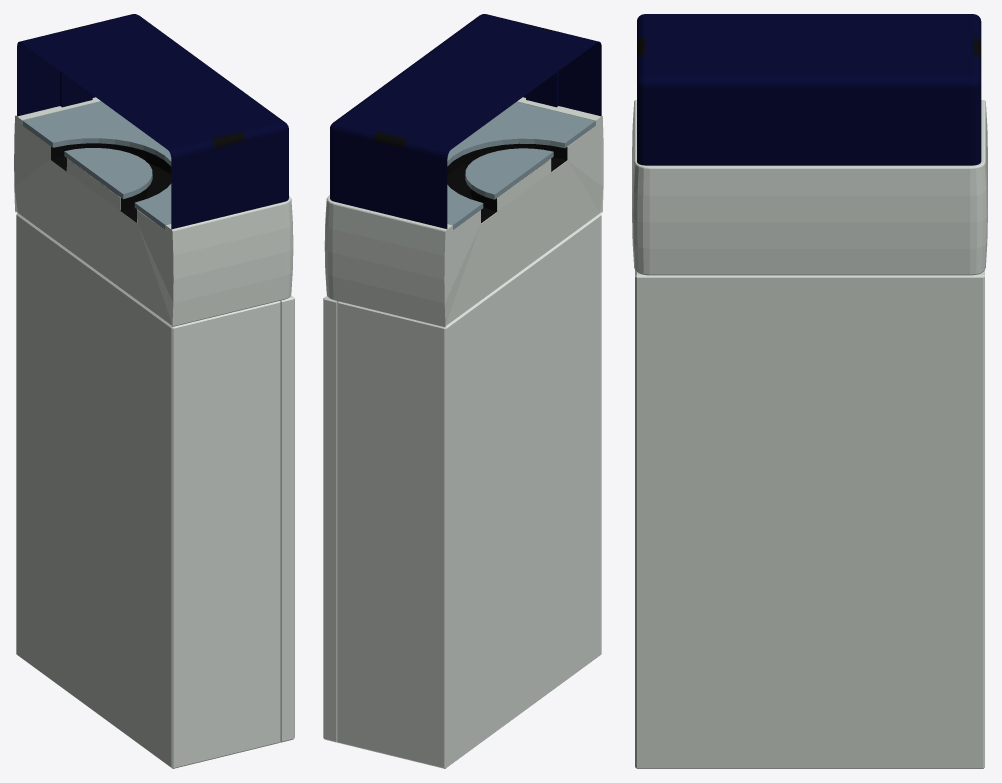
The model's file is Automation Track Loop.obj.
3 views of the same model, side by side, from view 1: azimuth 30°, elevation 25°; view 2: azimuth 150°, elevation 25°; view 3: azimuth 270°, elevation 25° (orthographic). The views are drawn at different scales.
Parts seen in each view (by area): view 1: object1, object4, object3, object2; view 2: object1, object4, object3, object2; view 3: object1, object4.
Boxes of the visible parts, <box> form: object1: <box>14,97,294,768</box>; object4: <box>17,14,288,229</box>; object3: <box>22,101,171,229</box>; object2: <box>50,143,171,222</box>; object1: <box>323,97,603,768</box>; object4: <box>330,14,601,228</box>; object3: <box>447,102,595,229</box>; object2: <box>447,143,567,222</box>; object1: <box>632,100,987,768</box>; object4: <box>637,14,981,165</box>.
Size of the model in its own units: 9.04 by 42.31 by 19.83.
